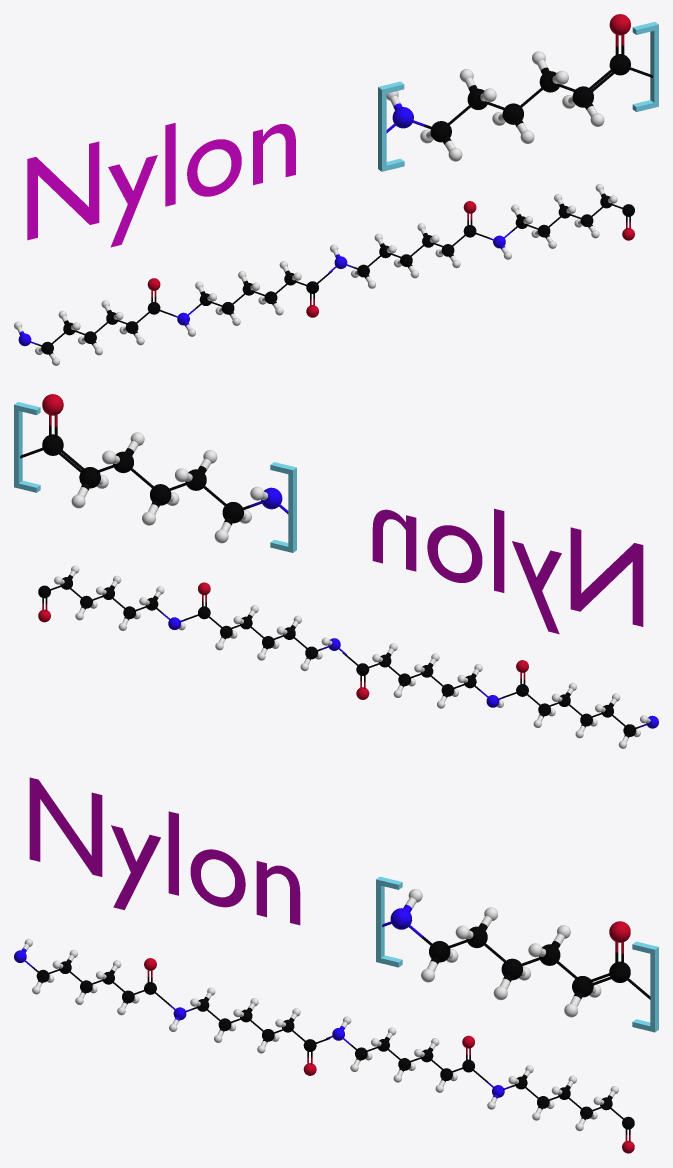
Rendered from nylon.glb.
The picture shows the model from 3 angles, top to bottom: view 1: azimuth 30°, elevation 25°; view 2: azimuth 150°, elevation 25°; view 3: azimuth 330°, elevation 25°; orthographic projection.
Parts seen in each view (by area): view 1: Text.001, Cube.003, Cube.004; view 2: Text.001, Cube.003, Cube.004; view 3: Text.001, Cube.004, Cube.003.
Boxes of the visible parts, <box> form: Text.001: <box>27,123,295,247</box>; Cube.003: <box>378,81,404,171</box>; Cube.004: <box>632,22,658,111</box>; Text.001: <box>372,508,643,634</box>; Cube.003: <box>270,462,296,552</box>; Cube.004: <box>14,402,40,492</box>; Text.001: <box>29,777,300,925</box>; Cube.004: <box>632,941,658,1032</box>; Cube.003: <box>376,876,402,967</box>.
Size of the model in its own units: 267 by 90.73 by 23.66.
